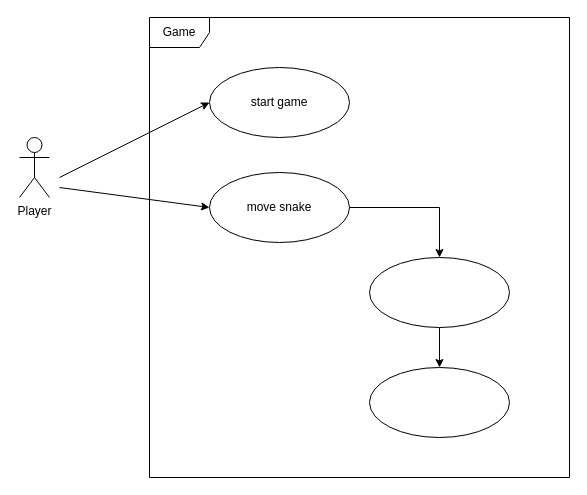
This 587x495 diagram has some shape labels left out. Each missing label, with the centre of its shape:
check head: point 439,402
update game state: point 439,292
